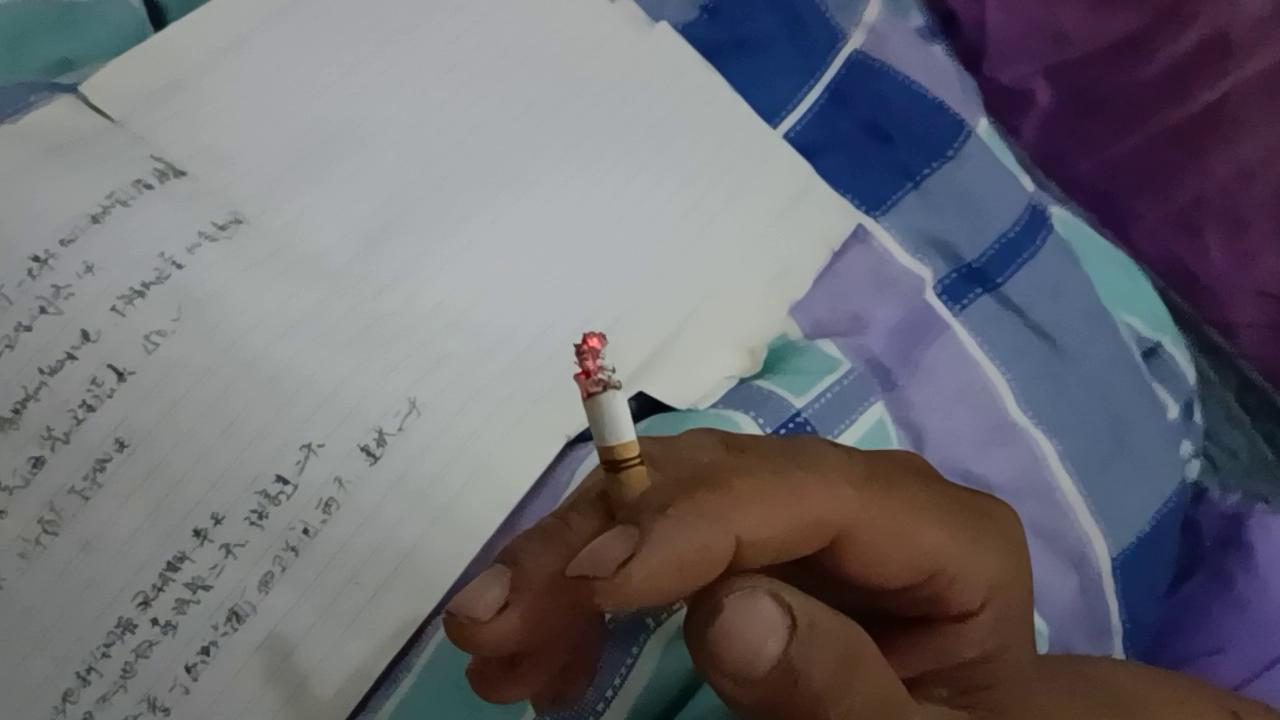smoke: (575, 330, 670, 571)
